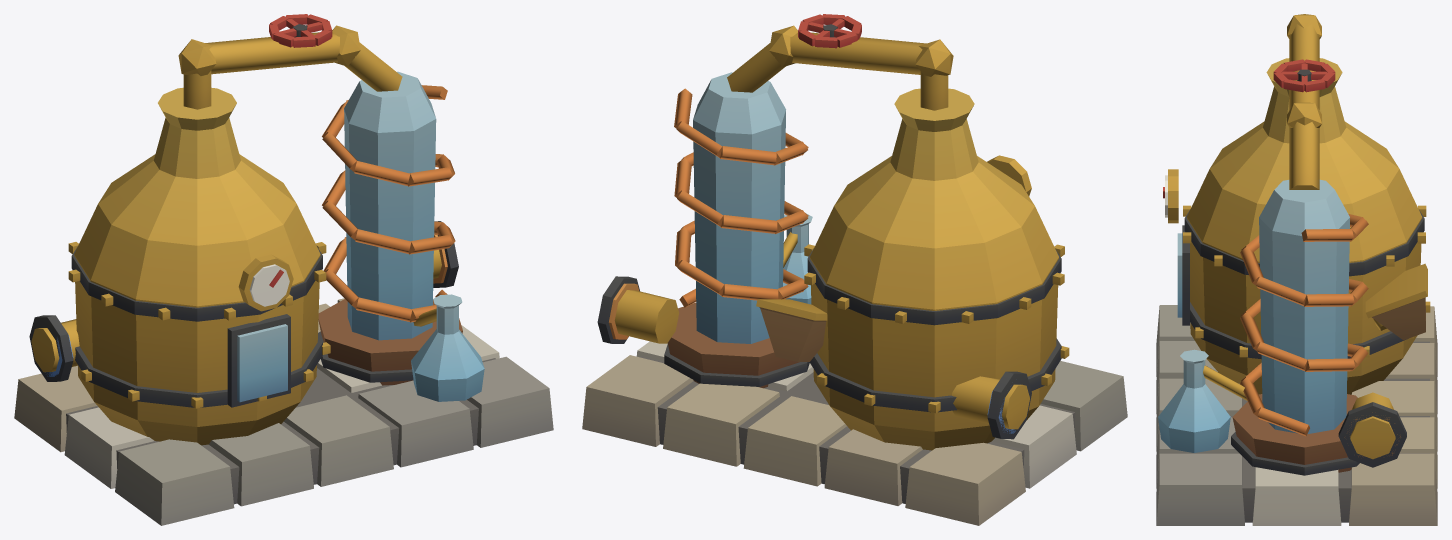
Rendered from mach_extractor.glb.
3 views of the same model, side by side, from view 1: azimuth 30°, elevation 25°; view 2: azimuth 150°, elevation 25°; view 3: azimuth 270°, elevation 25° (orthographic). The views are drawn at different scales.
Parts seen in each view (by area): view 1: mach_extractor; view 2: mach_extractor; view 3: mach_extractor.
Part boxes in pixels (x1=…): mach_extractor: x1=14, y1=14, x2=553, y2=525; mach_extractor: x1=582, y1=14, x2=1127, y2=525; mach_extractor: x1=1156, y1=14, x2=1437, y2=525.
Size of the model in its own units: 5.84 by 5.53 by 3.7.
Materials: 1 (1 with a texture image).
